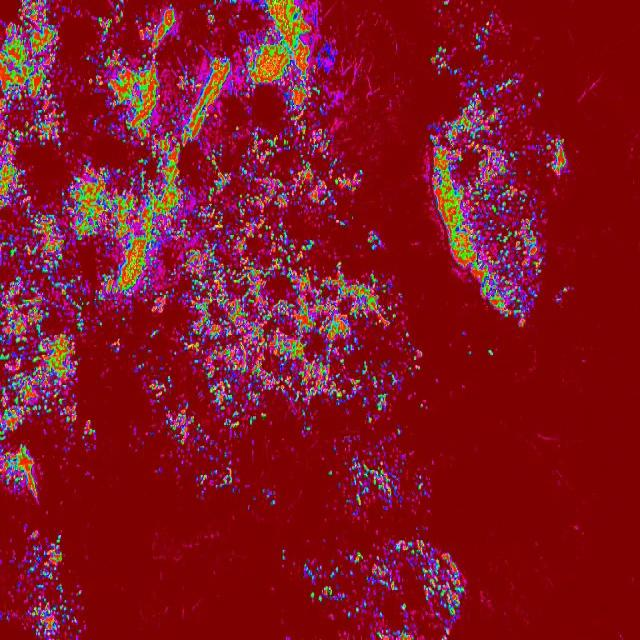fire: (0, 0, 362, 509), (428, 50, 545, 322), (304, 536, 470, 638), (362, 226, 418, 494), (7, 526, 78, 640), (546, 129, 568, 179)
